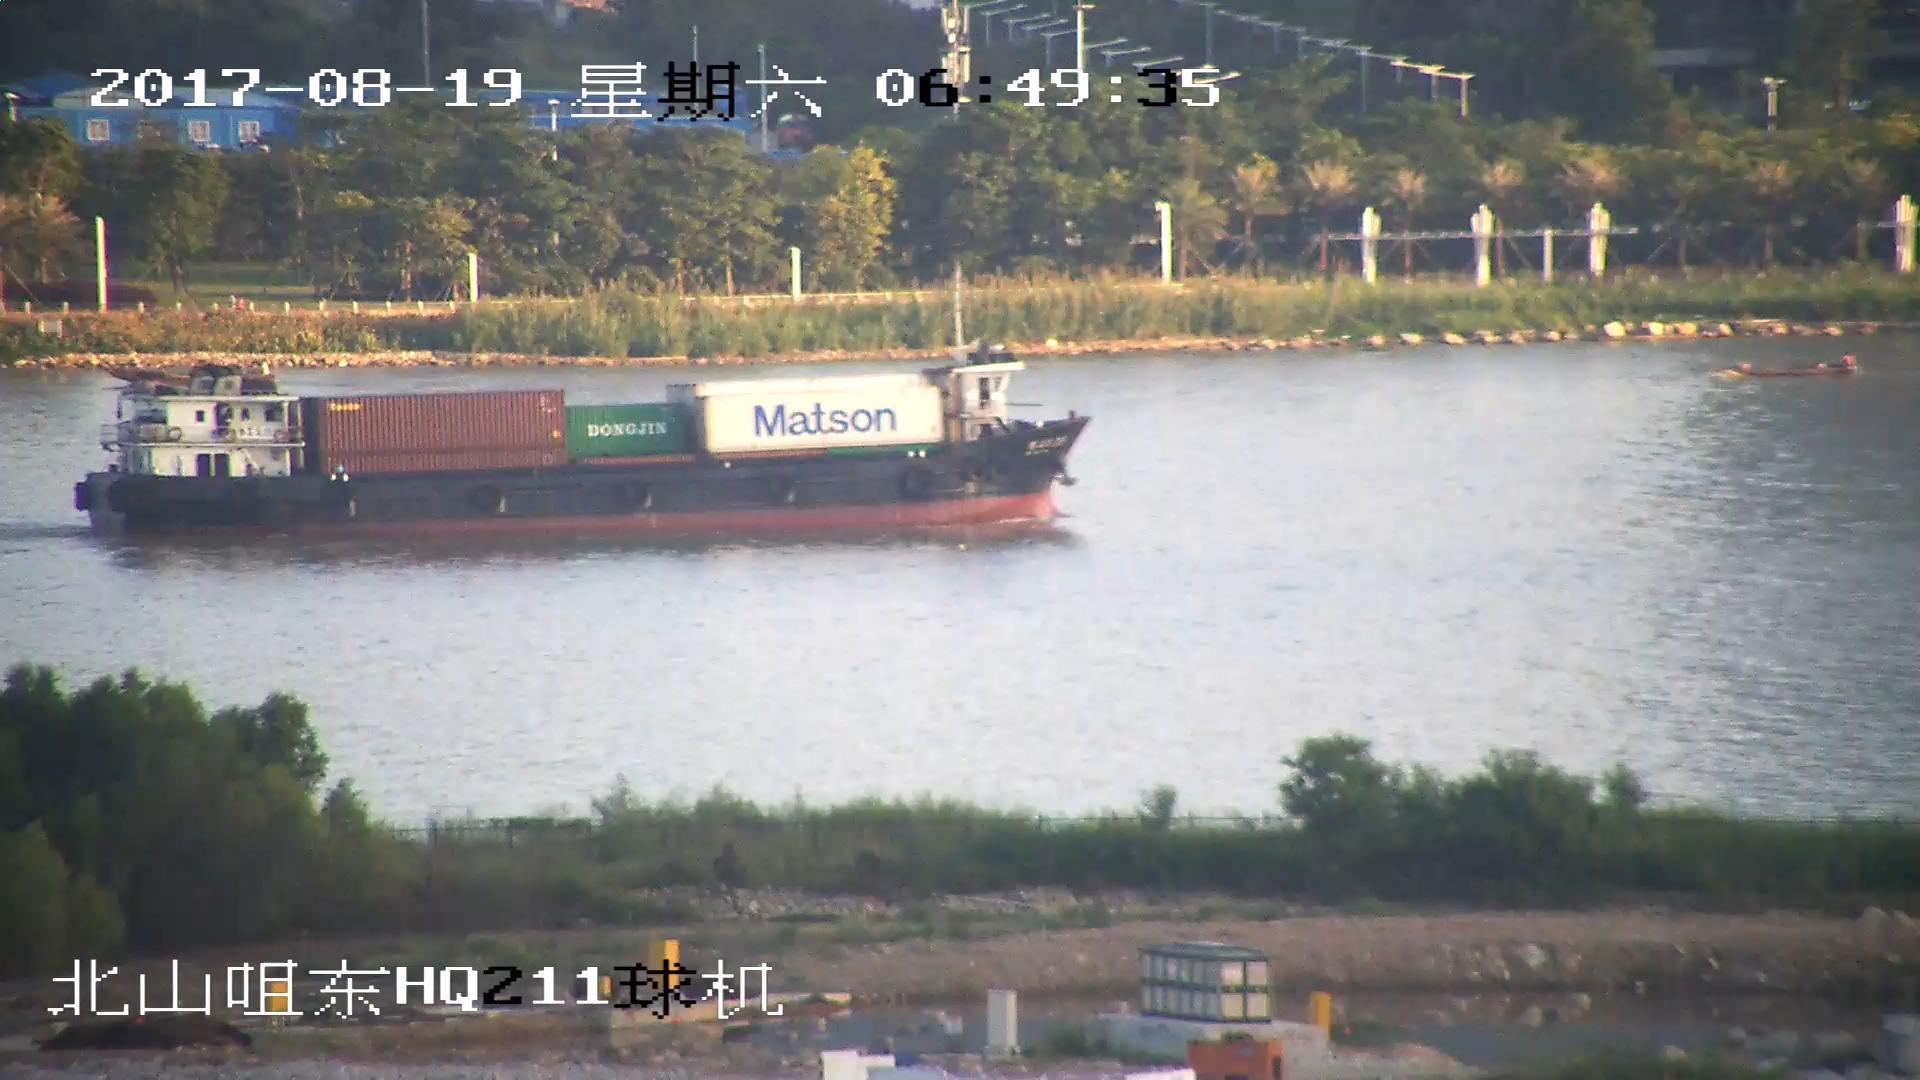Ship: (70, 336, 1092, 534)
